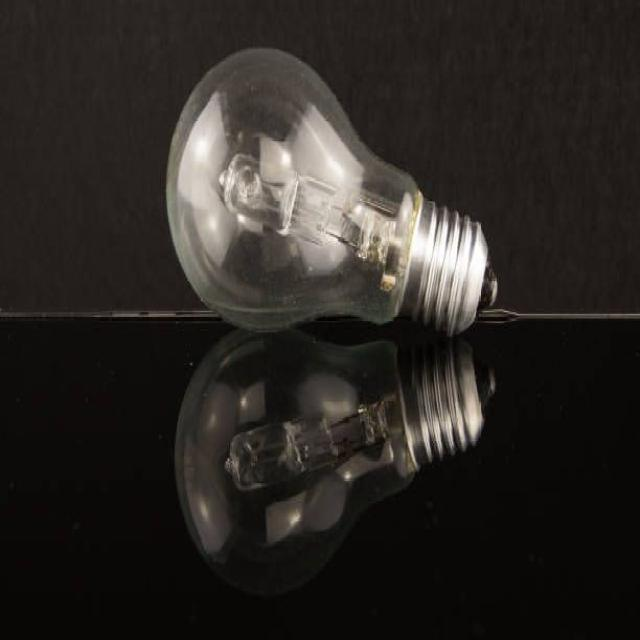electronic: (164, 45, 499, 337), (173, 327, 497, 596)
